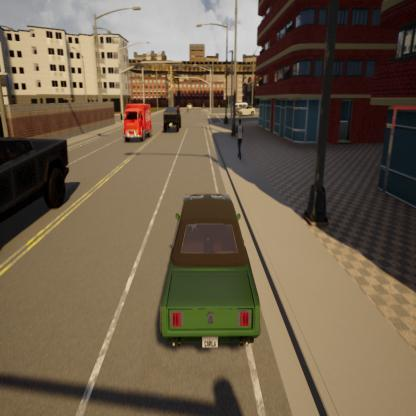Cars: (158, 194, 262, 352), (2, 136, 67, 223), (124, 102, 152, 142), (163, 104, 181, 134), (238, 107, 258, 117), (235, 100, 249, 114), (186, 98, 193, 115), (177, 100, 183, 112)
Pedestrian: (237, 116, 243, 158)
